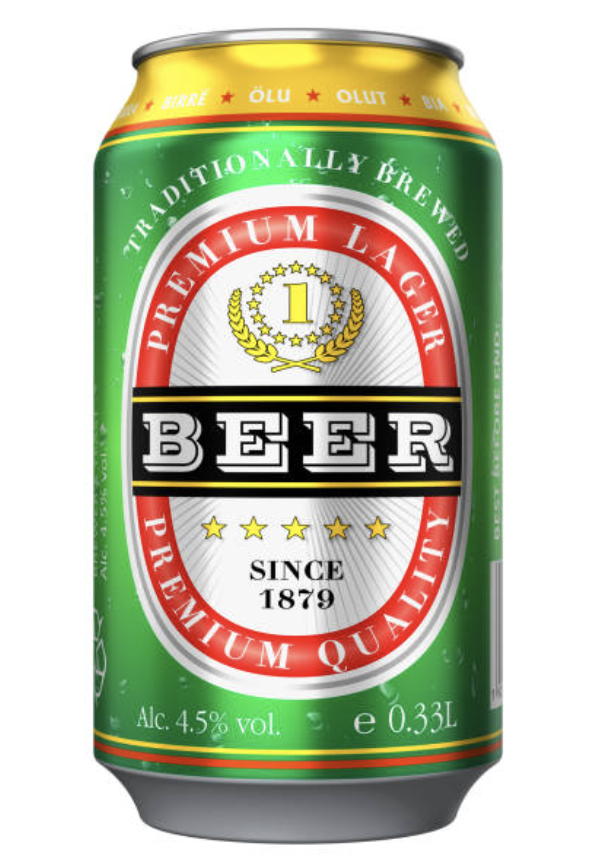beer-can: (92, 27, 502, 844)
